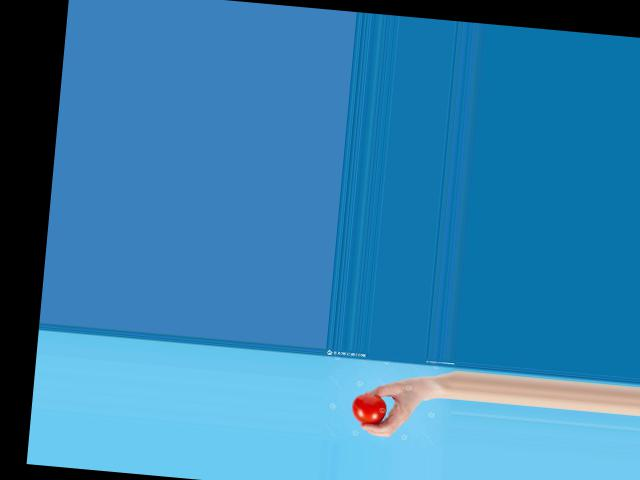tomato: (351, 393, 387, 425)
